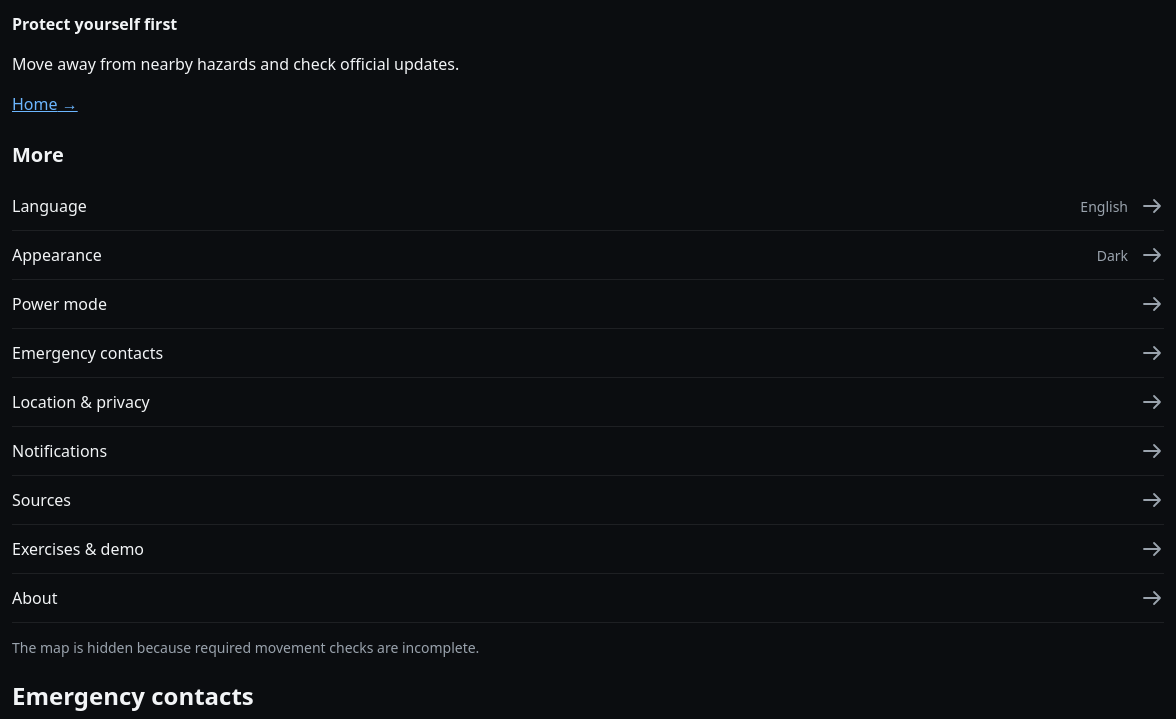
Test case: mobile More and Plan navigation › keeps Judge and replay diagnostics out of the consumer offline panel
This screenshot has width=1176, height=719.
Click the button with class "ui-row" showing "About".
click(35, 598)  # box [12,574,1164,623]
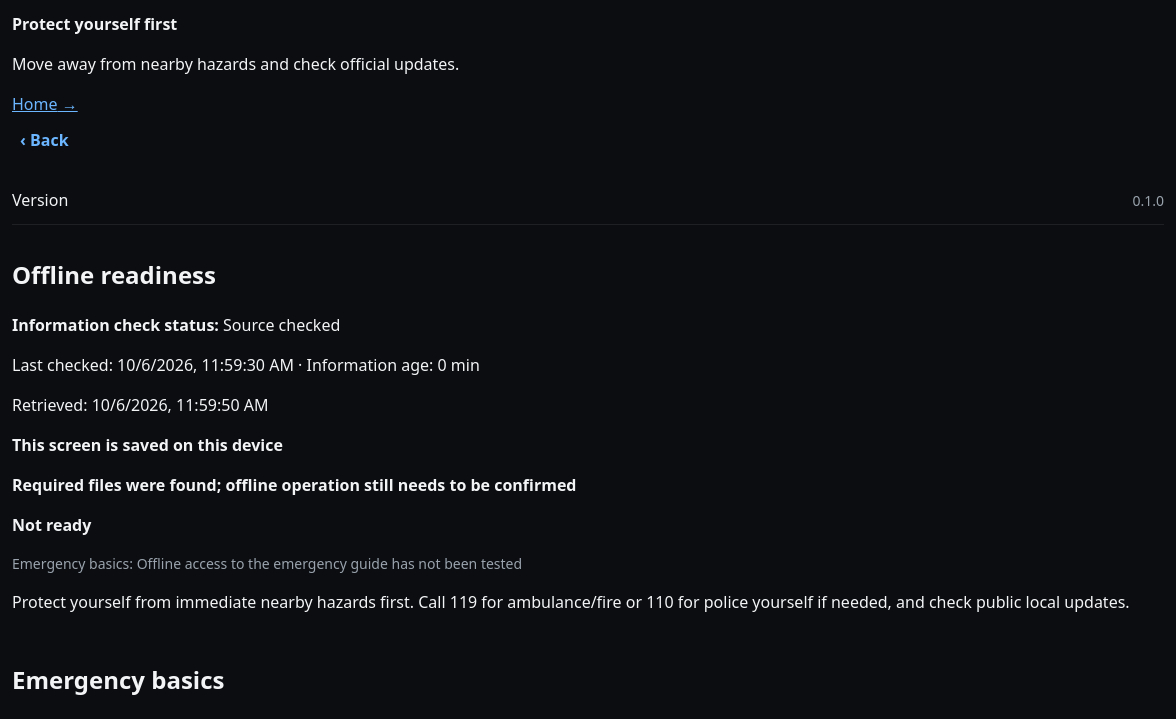
Now the element with class "offline-evidence-status" shows "Retrieved:", box [12,314,480,416]
Now the text "This screen is saved on this device" is shown, box [12,434,283,456]
Now the text "Required files were found; offline operation still needs to be confirmed" is shown, box [12,474,576,496]
